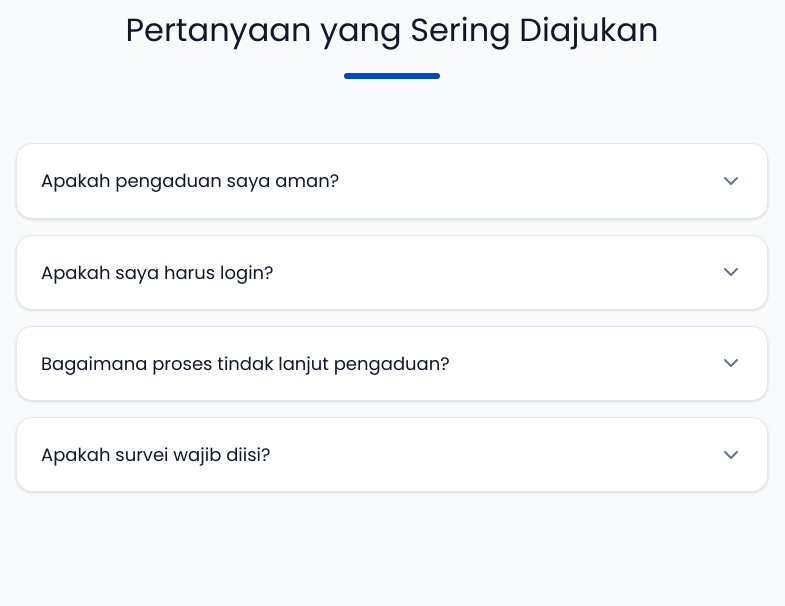
FAQSection (TC-FE-047) › membuka satu jawaban dan menutupnya lagi saat ditekan kedua kali
Click the button "Apakah pengaduan saya aman?". click: {"x": 190, "y": 181}
box: [17, 144, 767, 218]
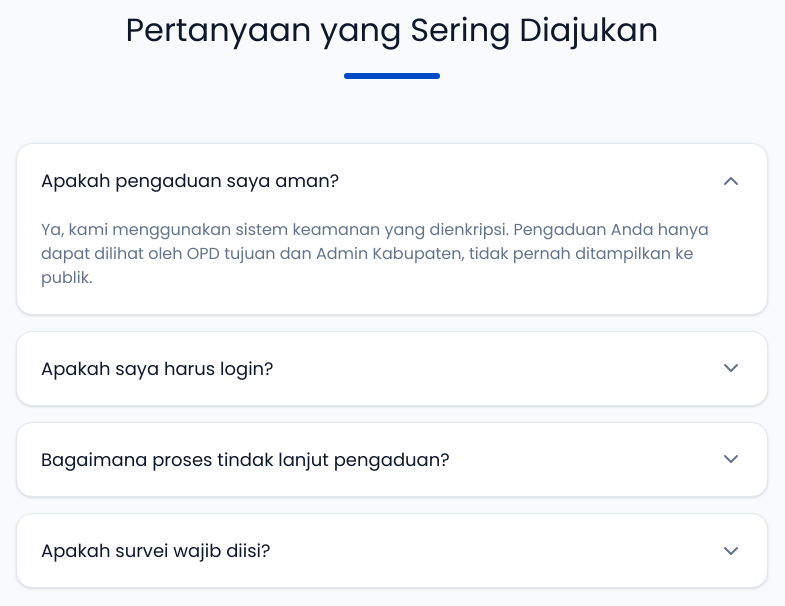
Expected: the number of elements with class "max-h-40" is 1, [17, 218, 767, 314]
Click the button "Apakah pengaduan saya aman?". click: {"x": 190, "y": 181}
box: [17, 144, 767, 218]
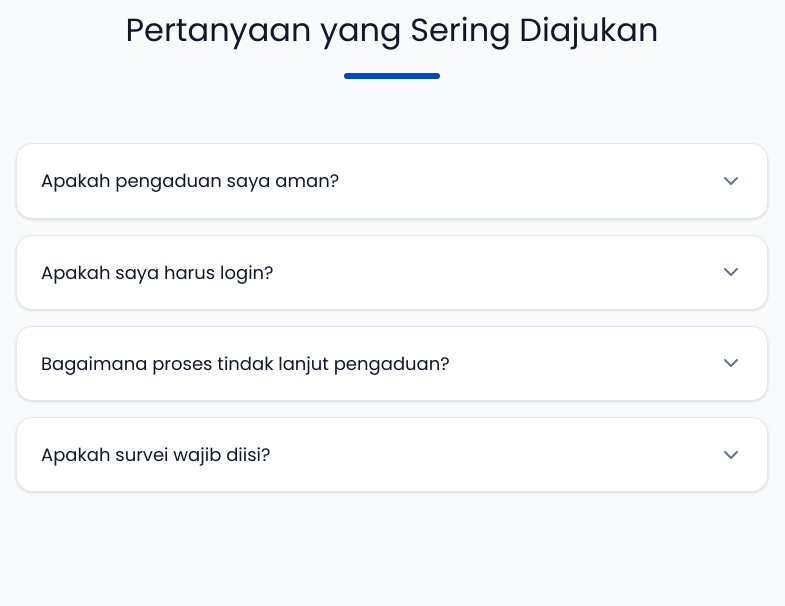
Expected: no elements with class "max-h-40" are shown
